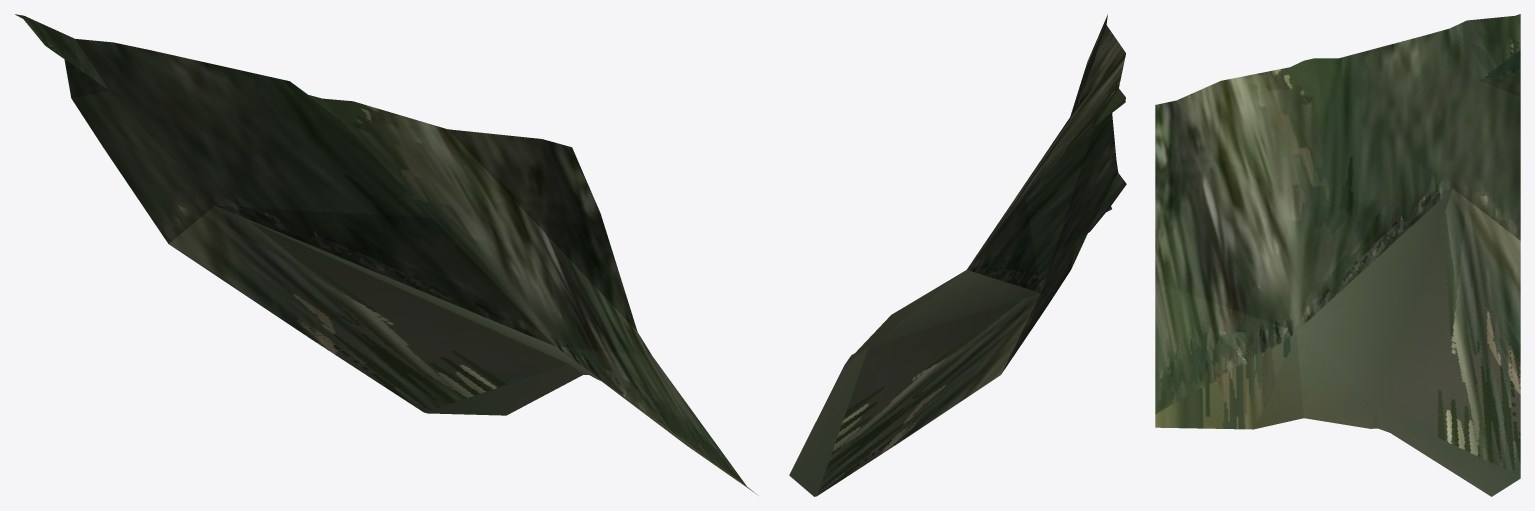
The picture shows the model from 3 angles, left to right: view 1: azimuth 30°, elevation 25°; view 2: azimuth 150°, elevation 25°; view 3: azimuth 270°, elevation 25°; orthographic projection. The views are drawn at different scales.
Size of the model in its own units: 2.9 by 2.95 by 2.95.
Materials: 3 (3 with a texture image).
